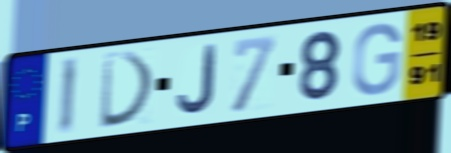7: (231, 32, 279, 115)
8: (298, 28, 341, 103)
D: (98, 50, 159, 132)
G: (349, 20, 403, 98)
I: (56, 54, 80, 138)
J: (175, 42, 219, 117)
